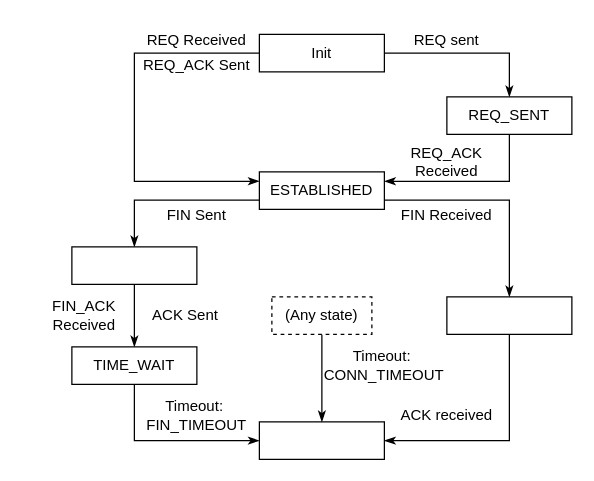
This 594x481 diagram has some shape labels left out. The shapes that lost their labels are listed below. From the top down, each one's centre as x and y in pixels, then its label:
At point 134,265: "FIN_WAIT".
At point 509,315: "CLOSE_WAIT".
At point 321,440: "FINISHED".
